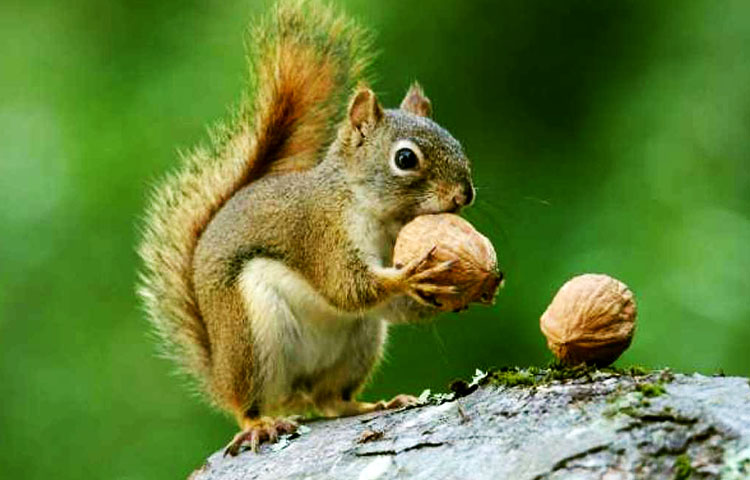Ardilla: (195, 84, 498, 409)
